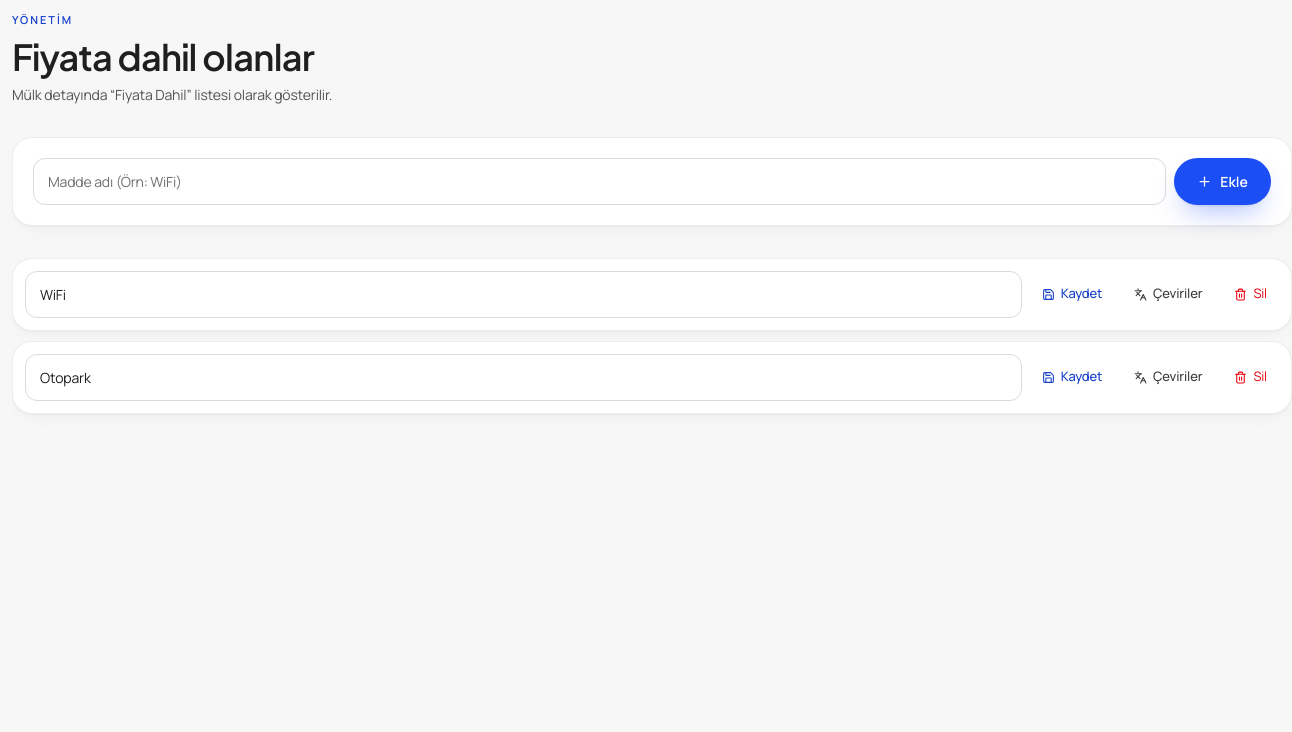
Test: PriceIncludesPage — Phase 10D Batch 3 — mevcut çeviri yükleme + kaydet › 9) Mevcut EN/DE çevirileri input'a yüklenir
The width and height of the screenshot is (1292, 732).
Click the button with aria-label "çevirileri": (1168, 294) [1122, 276, 1214, 312]
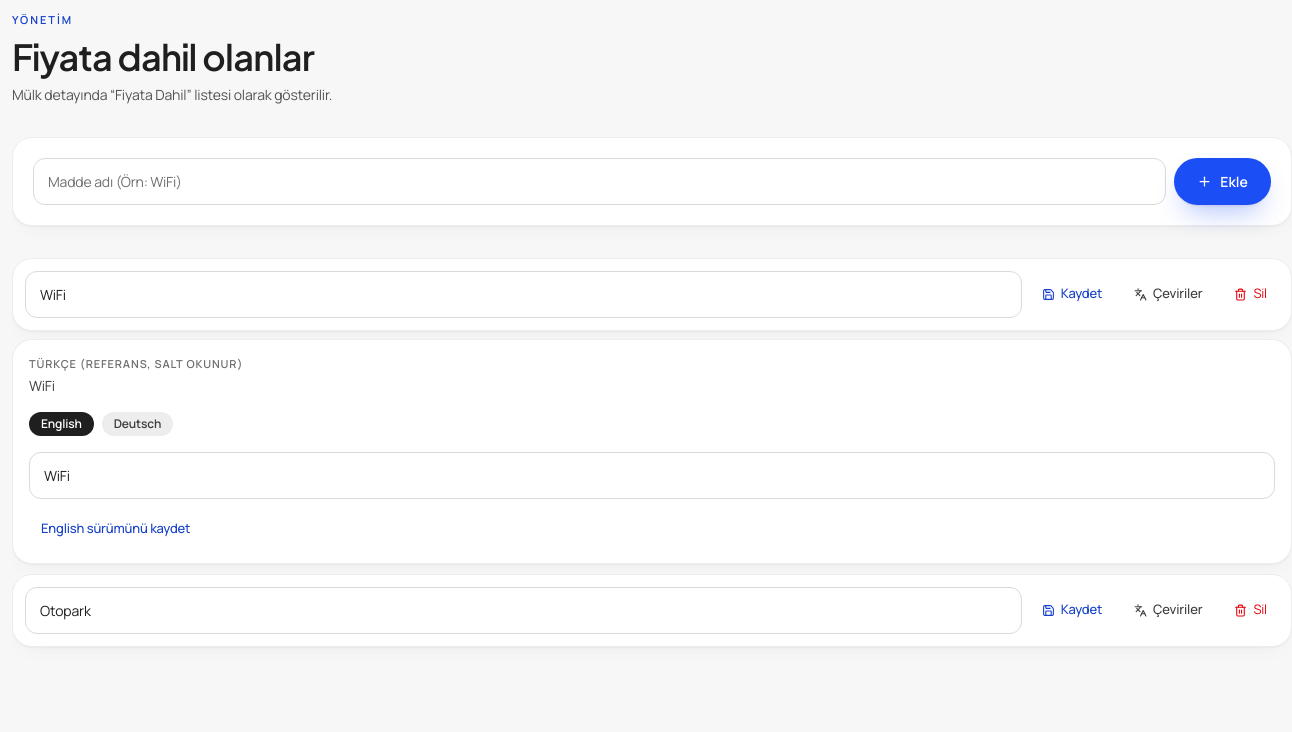
Expected: the field named "English" holds "WiFi", [29, 452, 1275, 499]
Click the button "Deutsch": (137, 424) [102, 412, 173, 436]
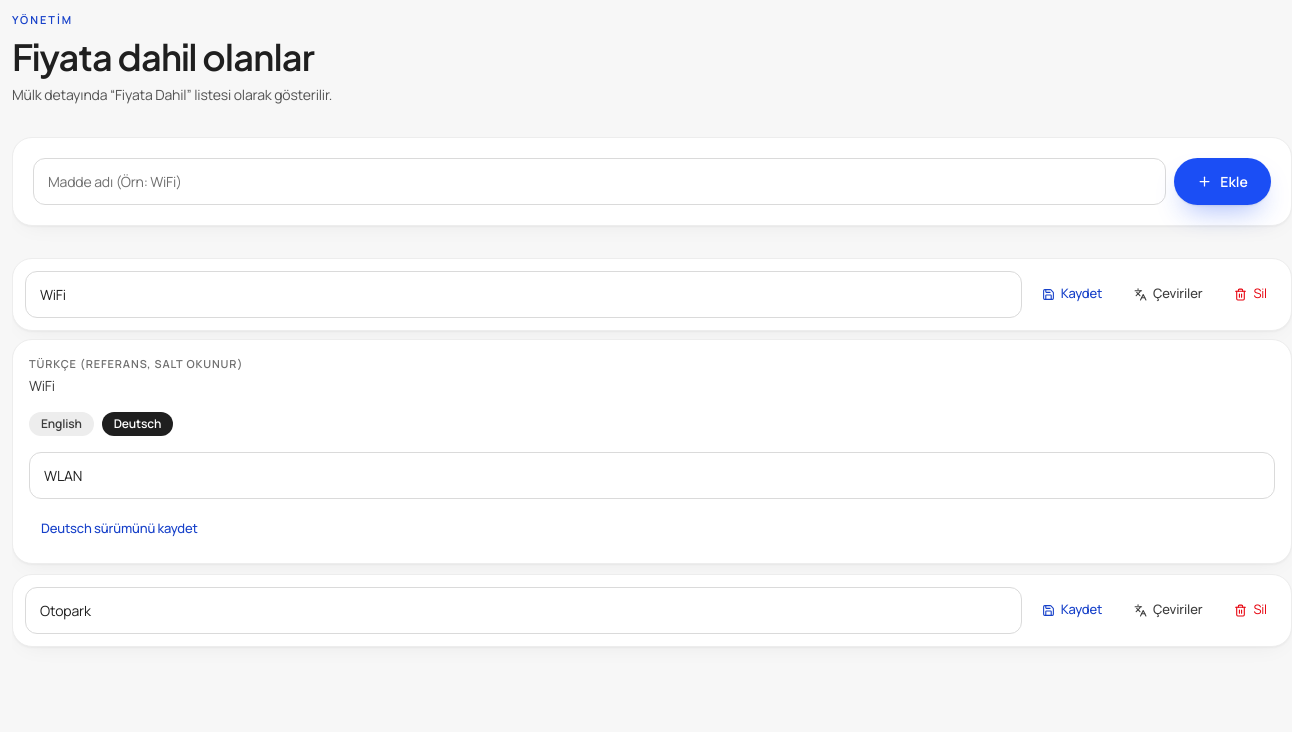
Expected: the field named "Deutsch" holds "WLAN", [29, 452, 1275, 499]
